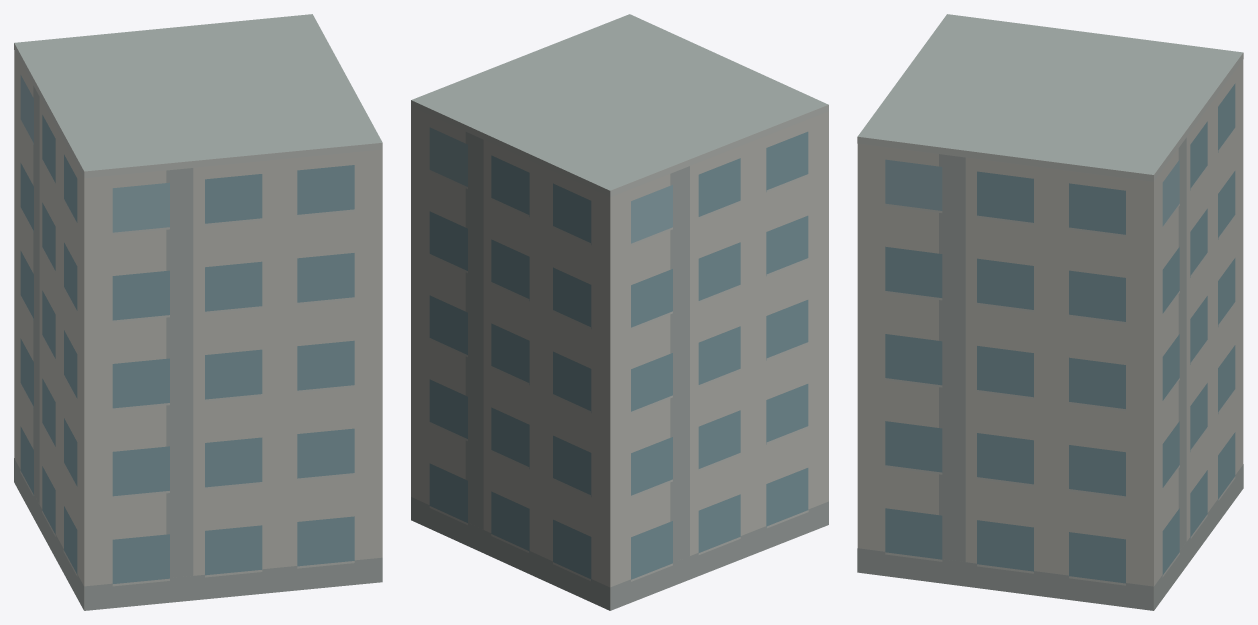
File: survey-upis-32642002.glb
3 views of the same model, side by side, from view 1: azimuth 30°, elevation 25°; view 2: azimuth 150°, elevation 25°; view 3: azimuth 270°, elevation 25° (orthographic). The views are drawn at different scales.
Visible parts, largest first — view 1: survey-upis-32642002.tmp; view 2: survey-upis-32642002.tmp; view 3: survey-upis-32642002.tmp.
Boxes of the visible parts, <box> form: survey-upis-32642002.tmp: <box>14,14,382,610</box>; survey-upis-32642002.tmp: <box>411,14,828,610</box>; survey-upis-32642002.tmp: <box>857,14,1243,610</box>.
Size of the model in its own units: 12.29 by 15.5 by 12.45.
